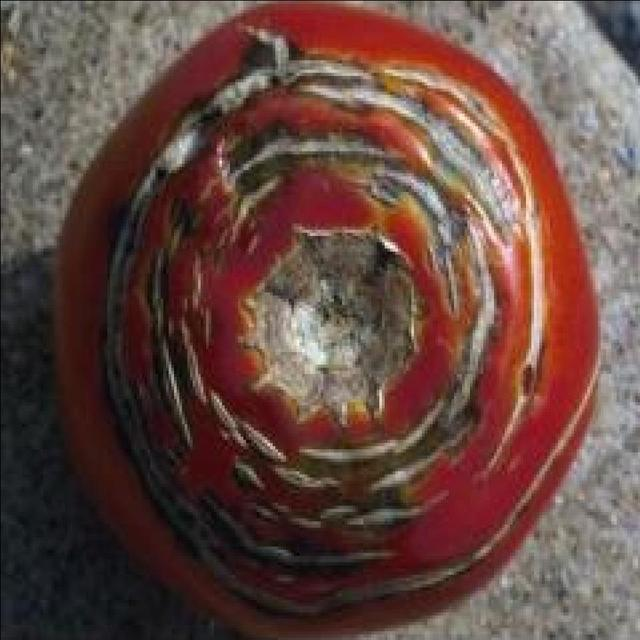Cracking Fruit: (61, 15, 394, 411)
